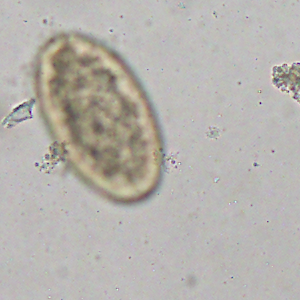Fasciola_hepatica_egg: (32, 30, 165, 206)
